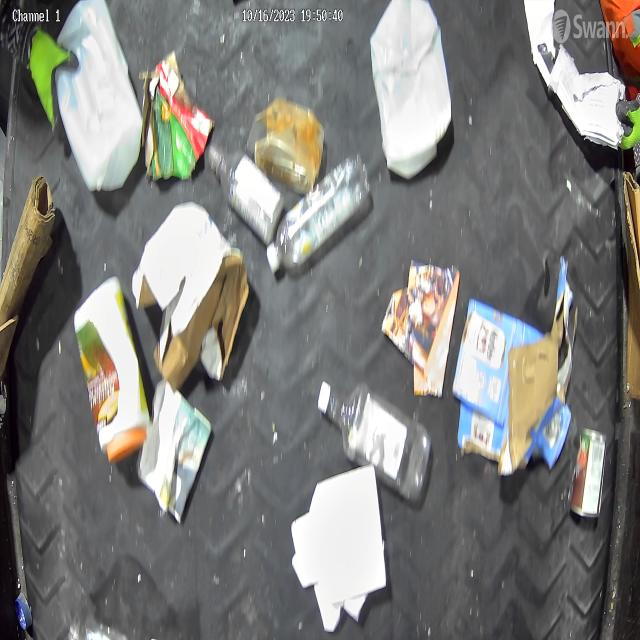can: (568, 421, 608, 520)
milk_jug: (50, 0, 149, 199), (368, 0, 452, 183)
non_white_jug: (74, 280, 152, 474)
plastic_bottle: (319, 375, 431, 504), (262, 150, 374, 272)
